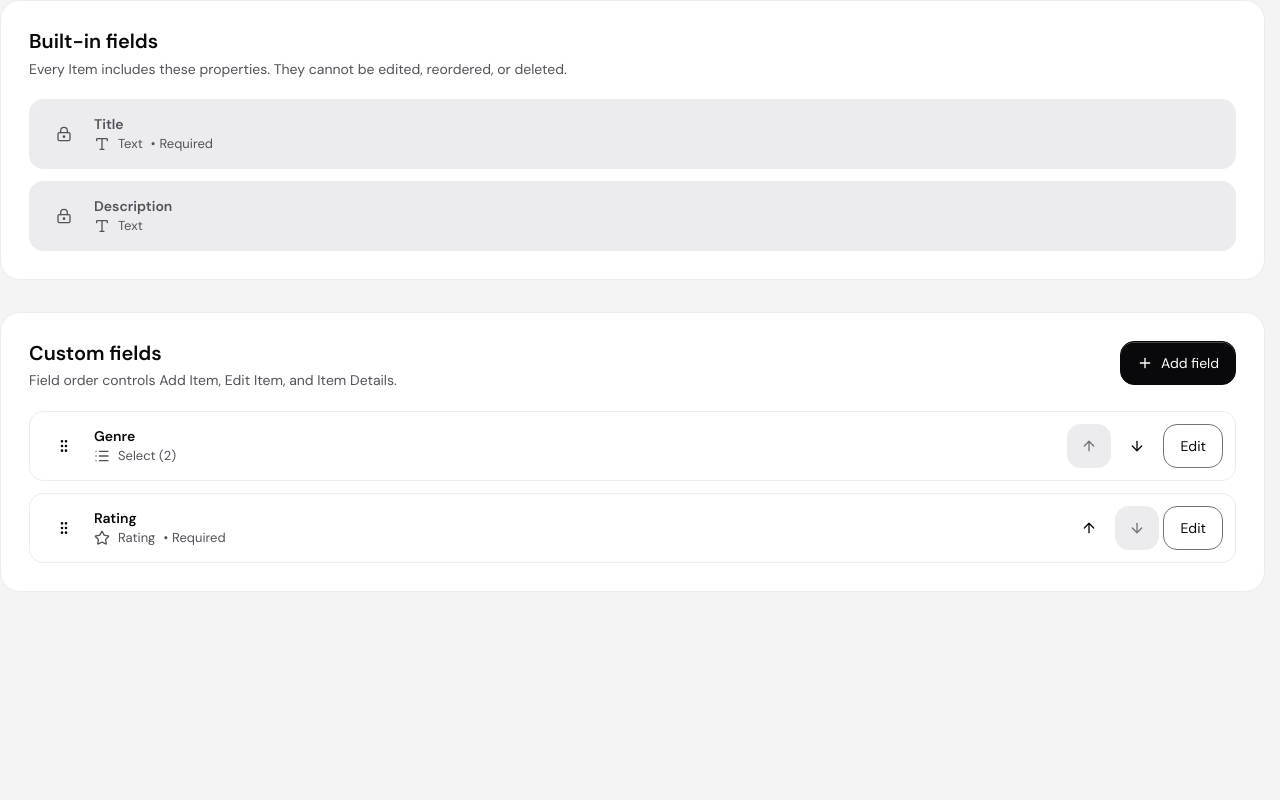
it: Field manager › restores Field order when a reorder fails
Click the button named "Move Genre down".
click(1138, 446)  # box [1116,424,1160,468]
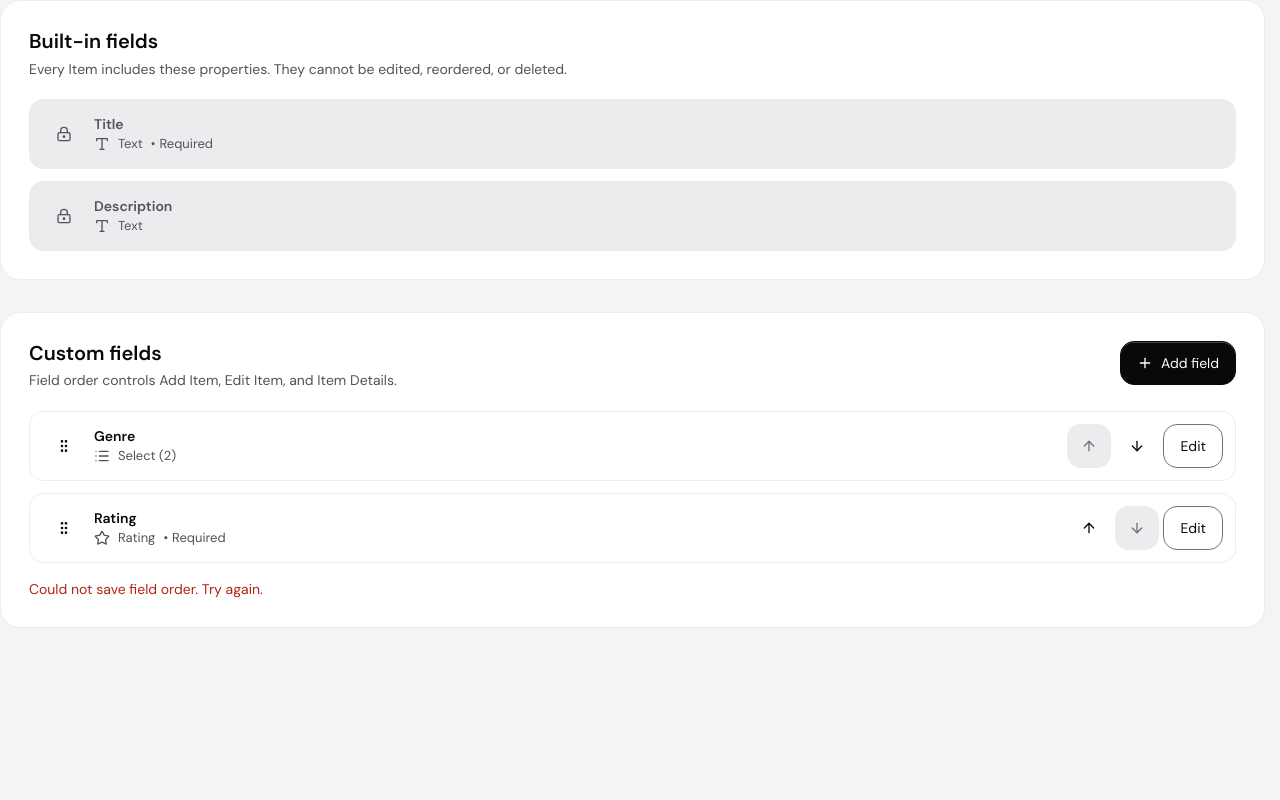
Expected: the message shows "Could not save field order", [29,580,263,598]
